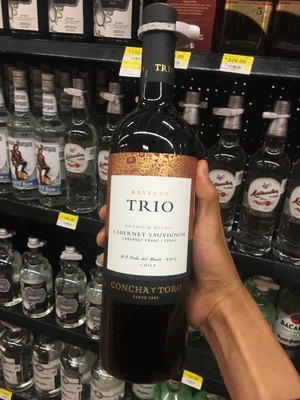trio cabernet sauvignon: (94, 12, 206, 384)
